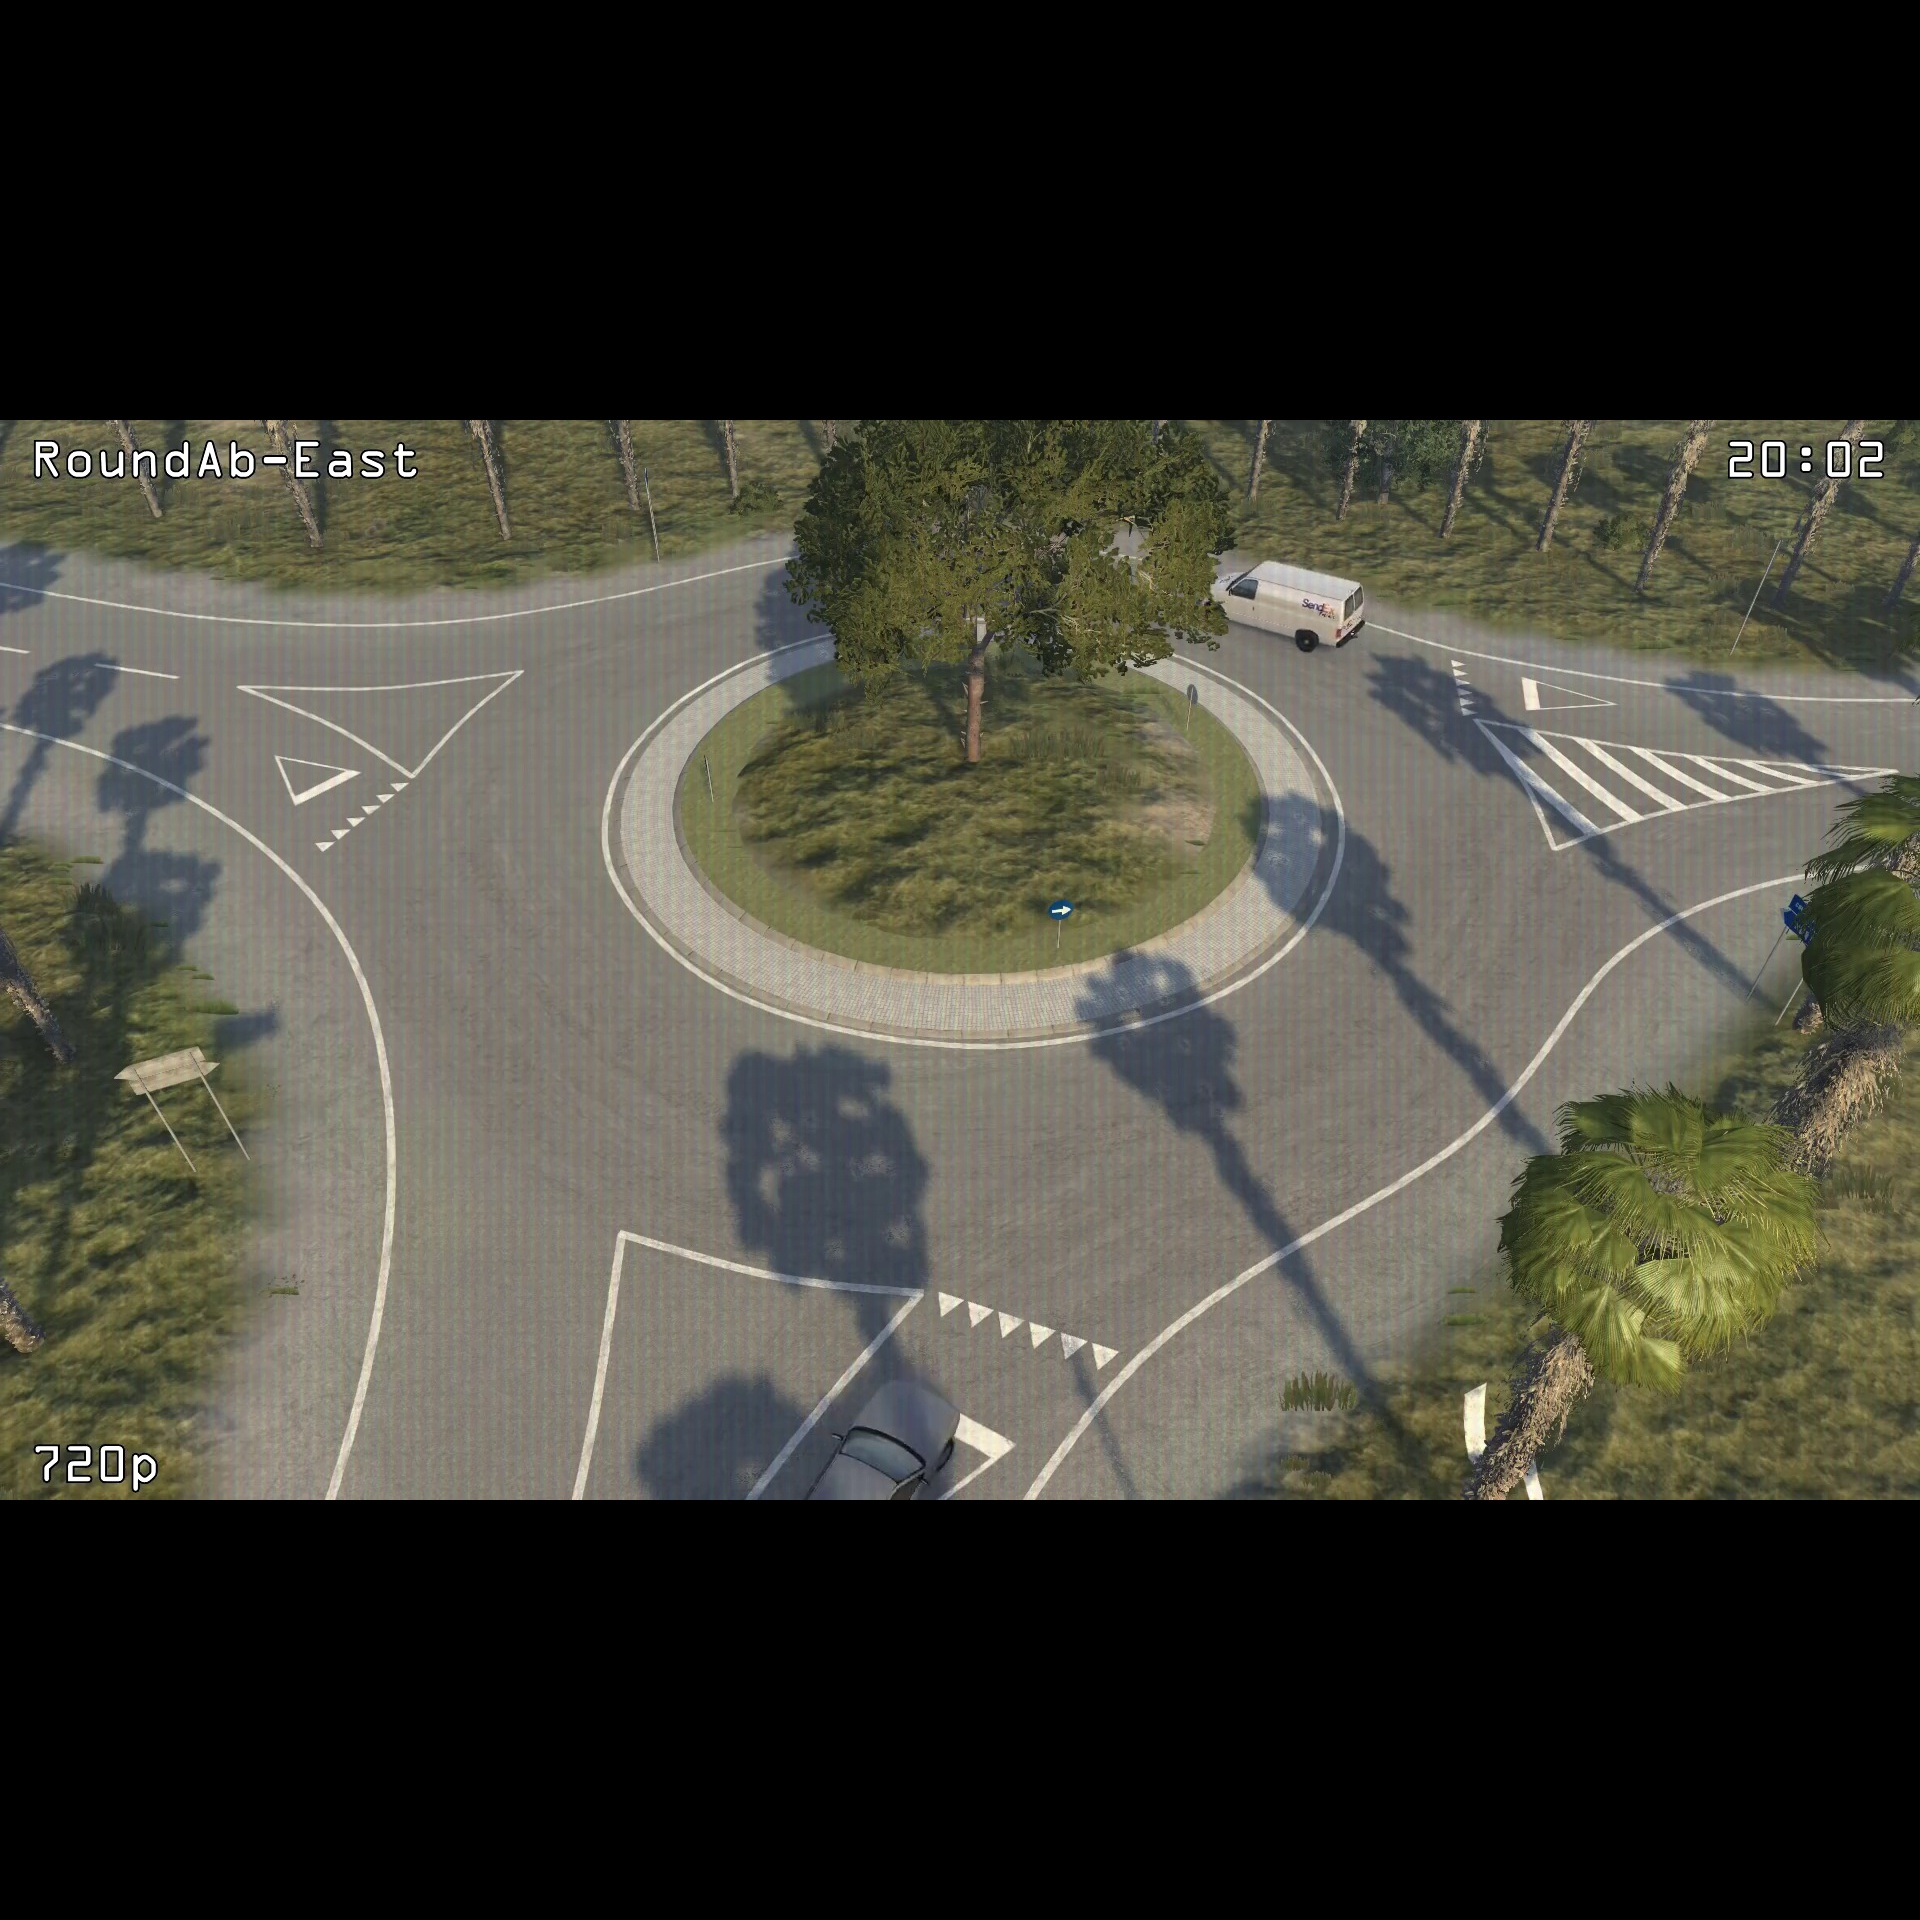vehicle: (796, 1373, 969, 1502), (1199, 552, 1378, 656)
